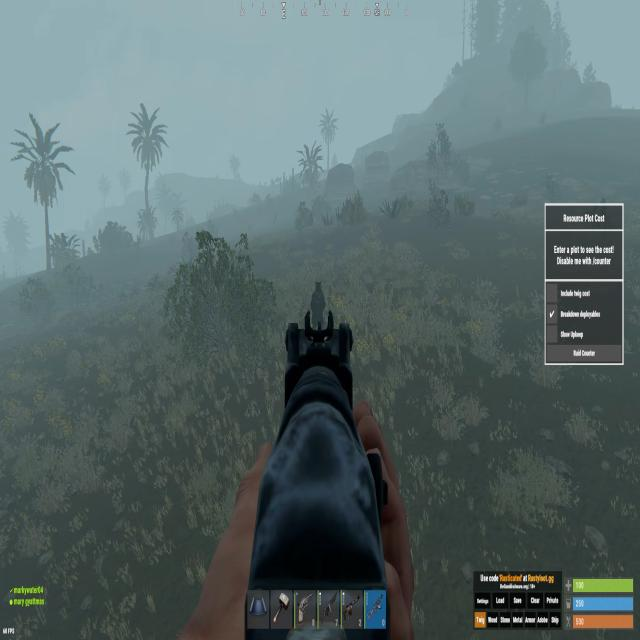Player: (309, 278, 327, 330)
